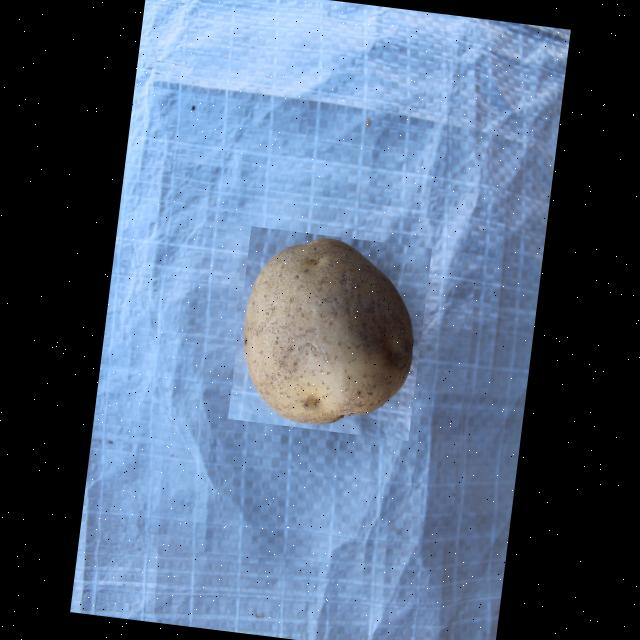Diseased-fungal potato: (228, 225, 432, 440)
